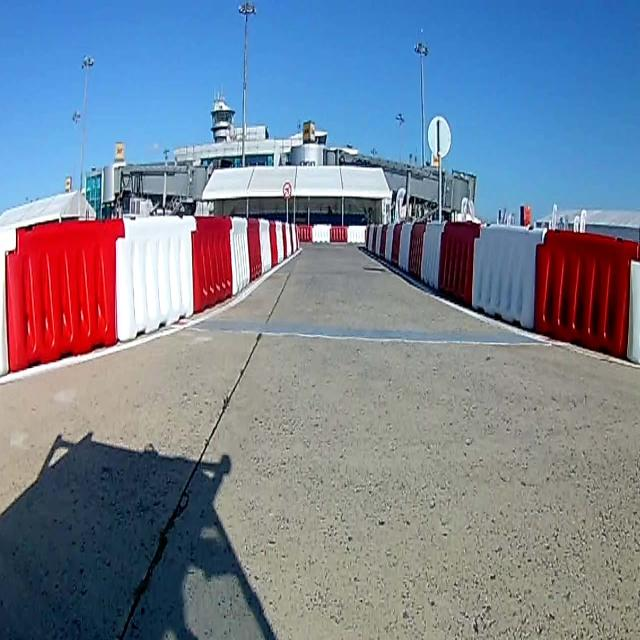soladonulmez: (283, 180, 291, 196)
